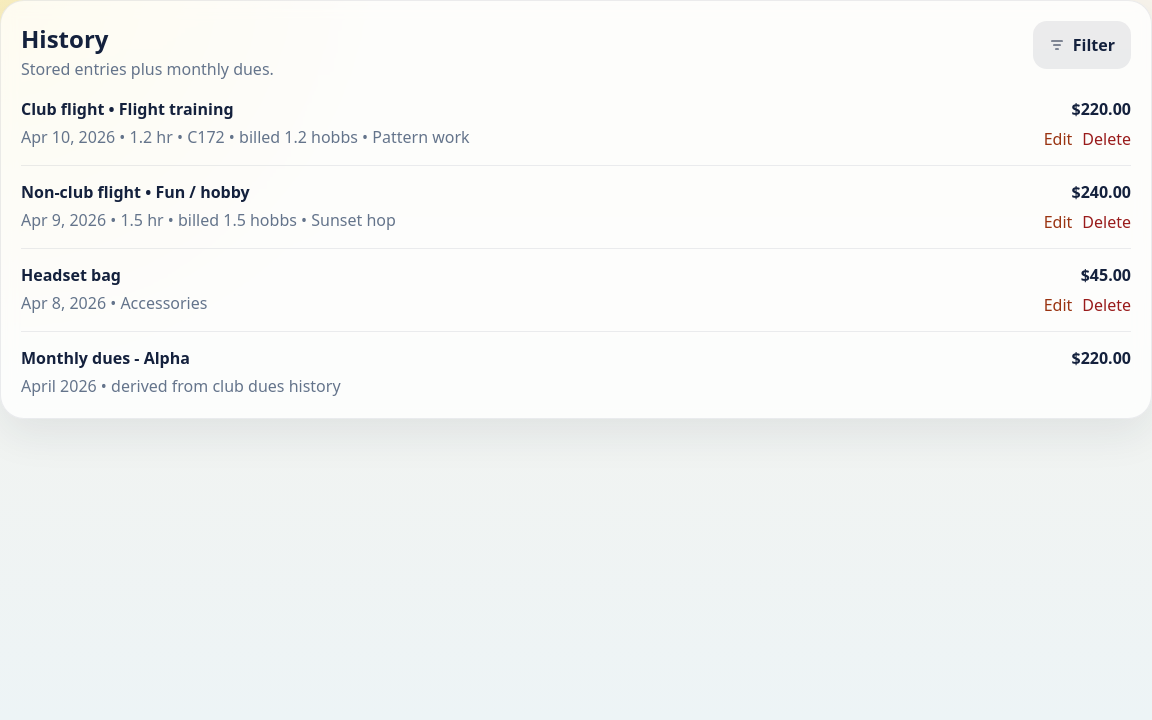
Test: HistoryPage › keeps filters tucked away until the header button is pressed
Expected: the heading "History" is shown, [21,22,108,55]
What coordinates should you click on to do the following:
click the button "Filter"
I would click on:
 (1082, 45)
Its box is [1033,21,1131,69].
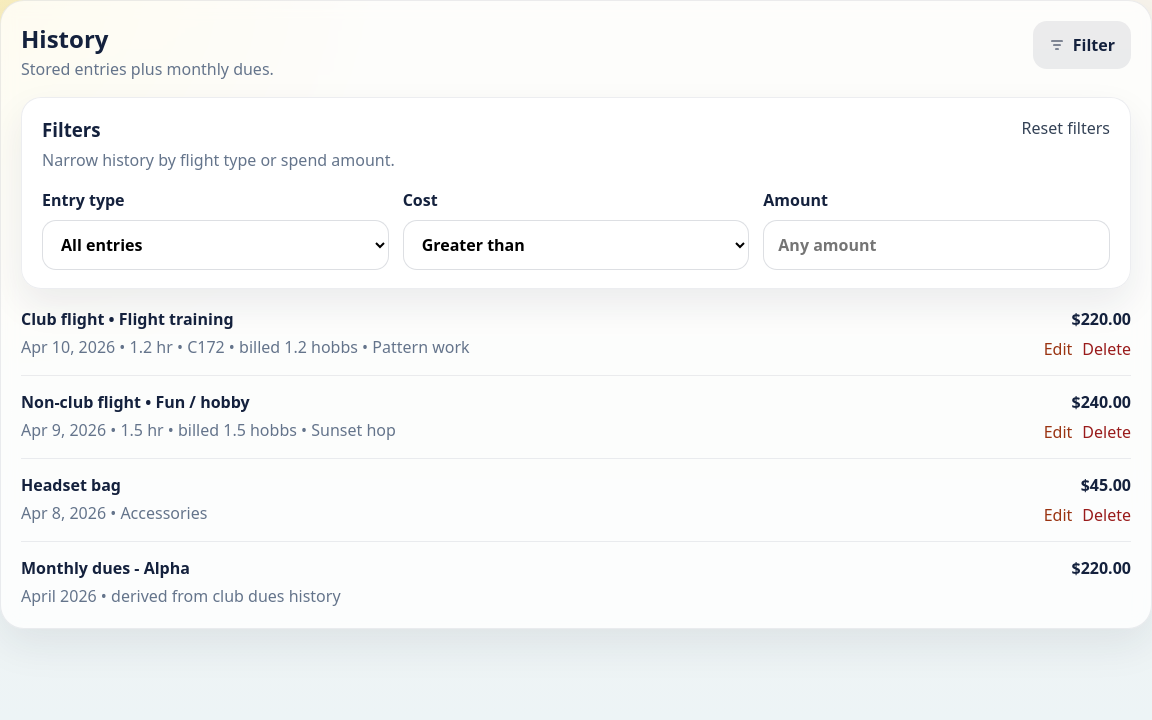
Now the dialog named "History filters" is shown, box [21,97,1131,289]
Now the dropdown labelled "Entry type" is shown, box [42,220,389,270]
Now the dropdown labelled "Cost" is shown, box [403,220,749,270]
